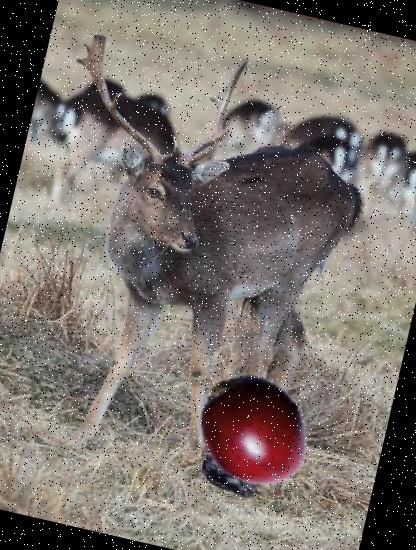Dates: (192, 440, 268, 516)
Tamarillo: (180, 358, 326, 504)
